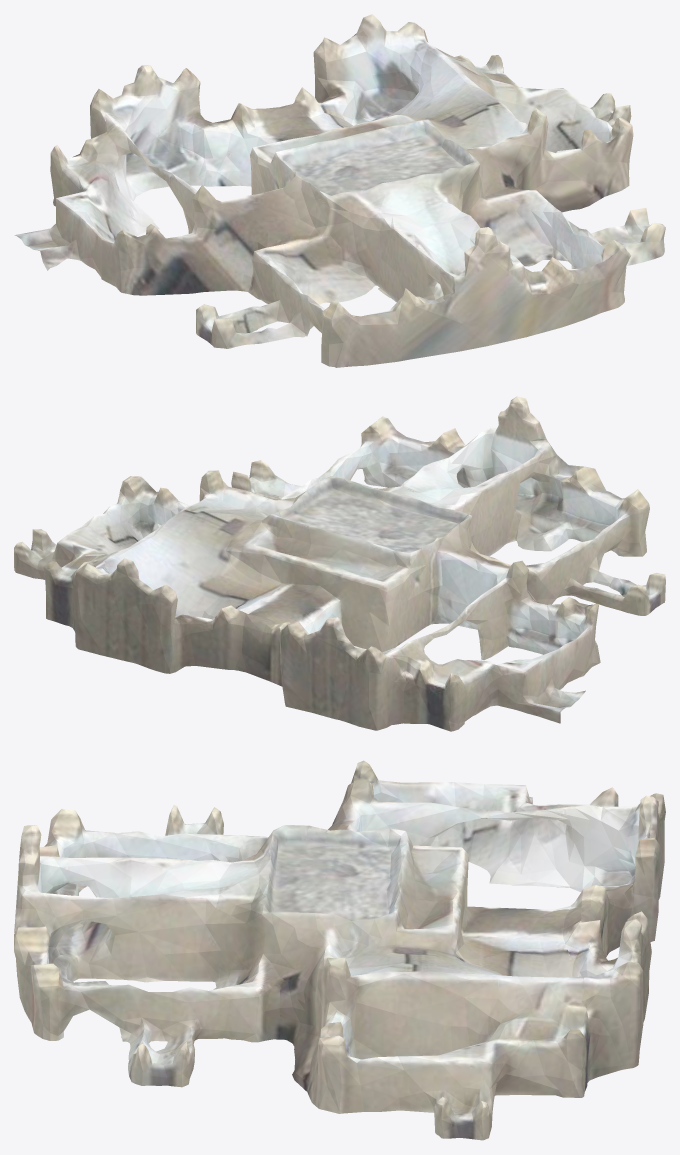
File: Tile_+003_+000_L21_0001000.glb
The picture shows the model from 3 angles, top to bottom: view 1: azimuth 30°, elevation 25°; view 2: azimuth 150°, elevation 25°; view 3: azimuth 270°, elevation 25°; orthographic projection. The views are drawn at different scales.
Parts seen in each view (by area): view 1: rtc; view 2: rtc; view 3: rtc.
Part boxes in pixels (bbox=[...]): rtc: bbox=[14, 14, 665, 367]; rtc: bbox=[14, 396, 665, 731]; rtc: bbox=[14, 760, 665, 1140].
Size of the model in its own units: 21.41 by 4.01 by 17.89.
Materials: 1 (1 with a texture image).
